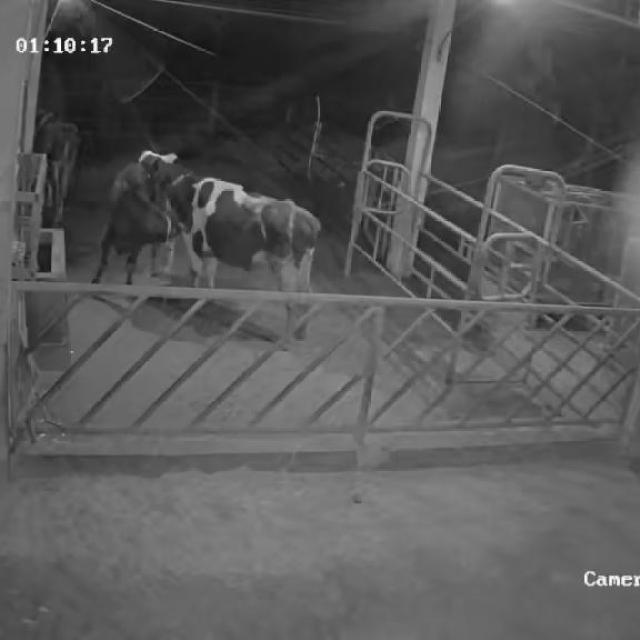standing: (91, 159, 182, 305)
